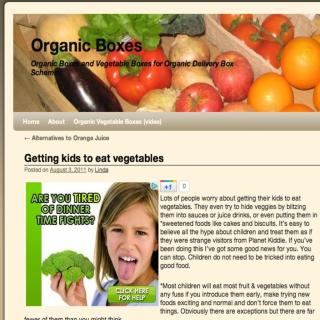tomato: (260, 16, 295, 43), (231, 22, 261, 53), (217, 10, 253, 35), (255, 40, 283, 66)
